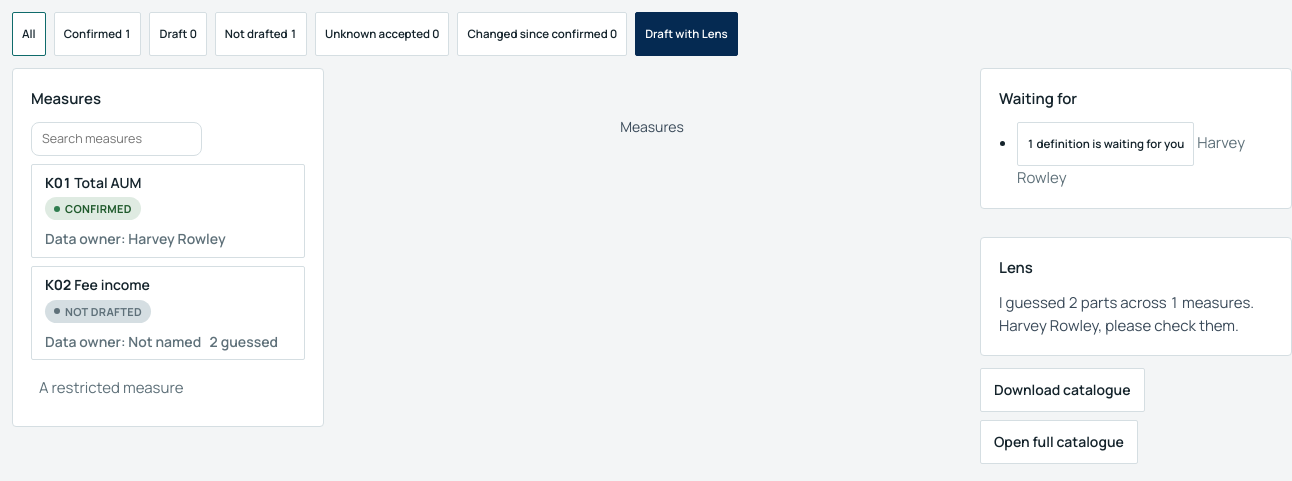
Test case: the Catalogue tab: five states › populated: counts, the list, a restricted row without a code, and a filter
The image size is (1292, 481).
Check: the text "Total AUM" is shown, box top-left (74, 173), bottom-right (141, 192)
Check: the list item "A restricted measure" is shown, box top-left (39, 378), bottom-right (183, 398)
Click the button "Not drafted 1" at [261, 34], box top-left (215, 12), bottom-right (307, 56)
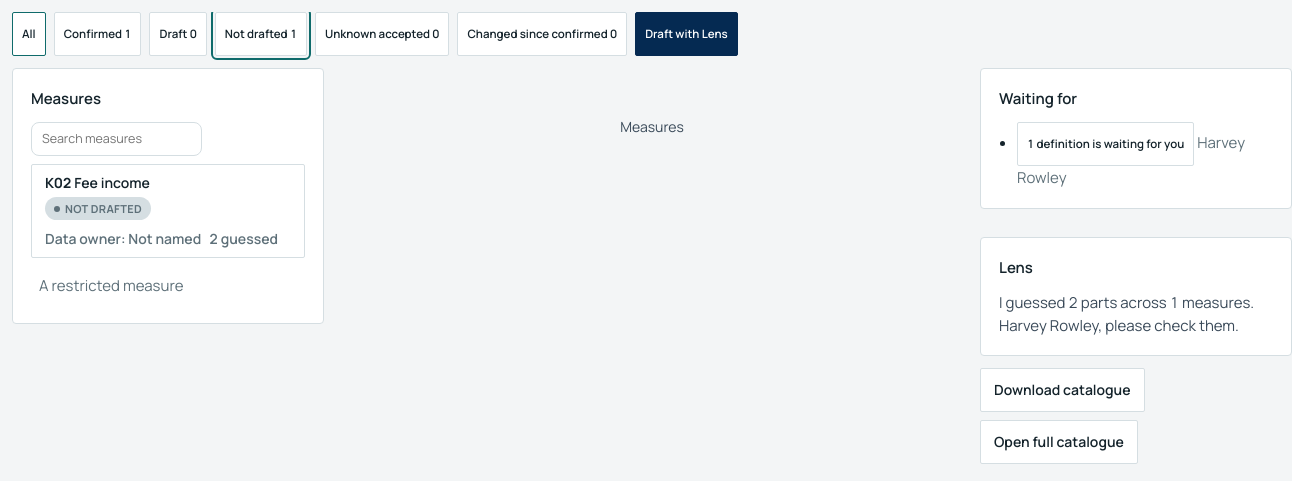
Check: the text "Fee income" is shown, box top-left (74, 173), bottom-right (150, 192)
Check: the button "Total AUM" is gone
Type "zzz" into the search field labelled "Search measures" at [116, 139], box top-left (31, 122), bottom-right (202, 156)
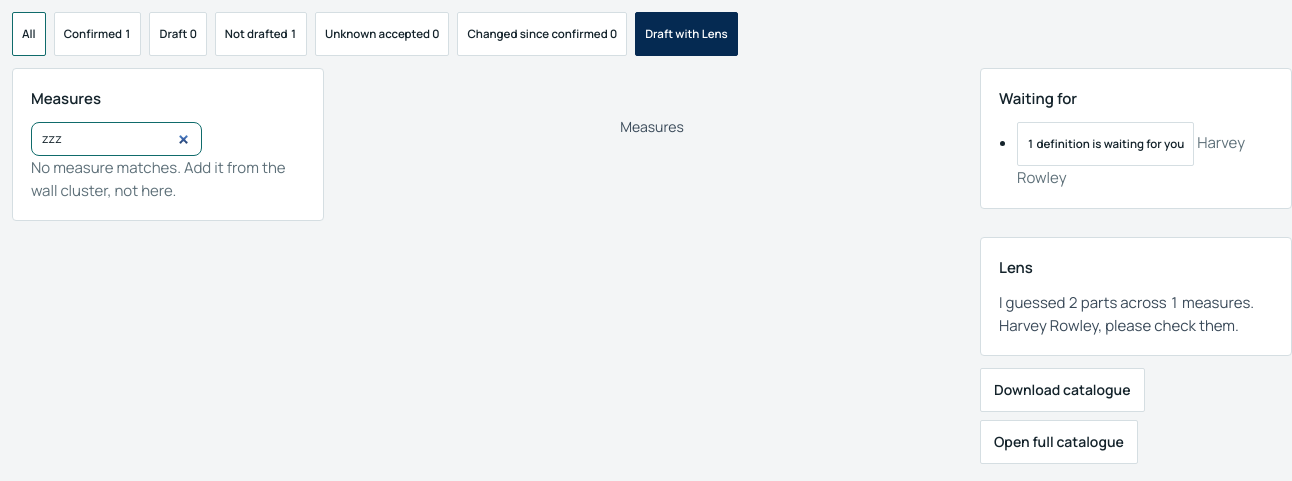
Check: the text "No measure matches. Add it from the wall cluster, not here." is shown, box top-left (31, 156), bottom-right (305, 202)
